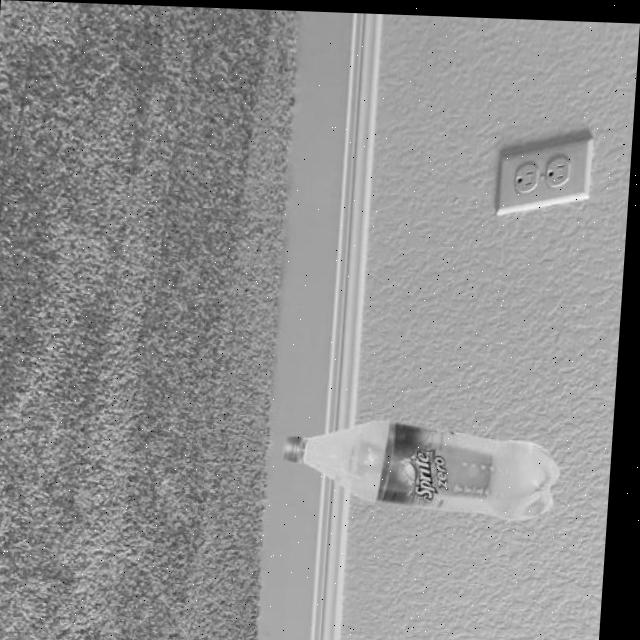bottle: (286, 412, 570, 519)
